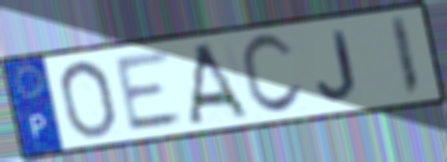A: (186, 40, 253, 126)
C: (237, 31, 306, 118)
E: (111, 48, 187, 135)
I: (387, 14, 423, 100)
J: (315, 28, 360, 102)
O: (56, 57, 120, 141)
